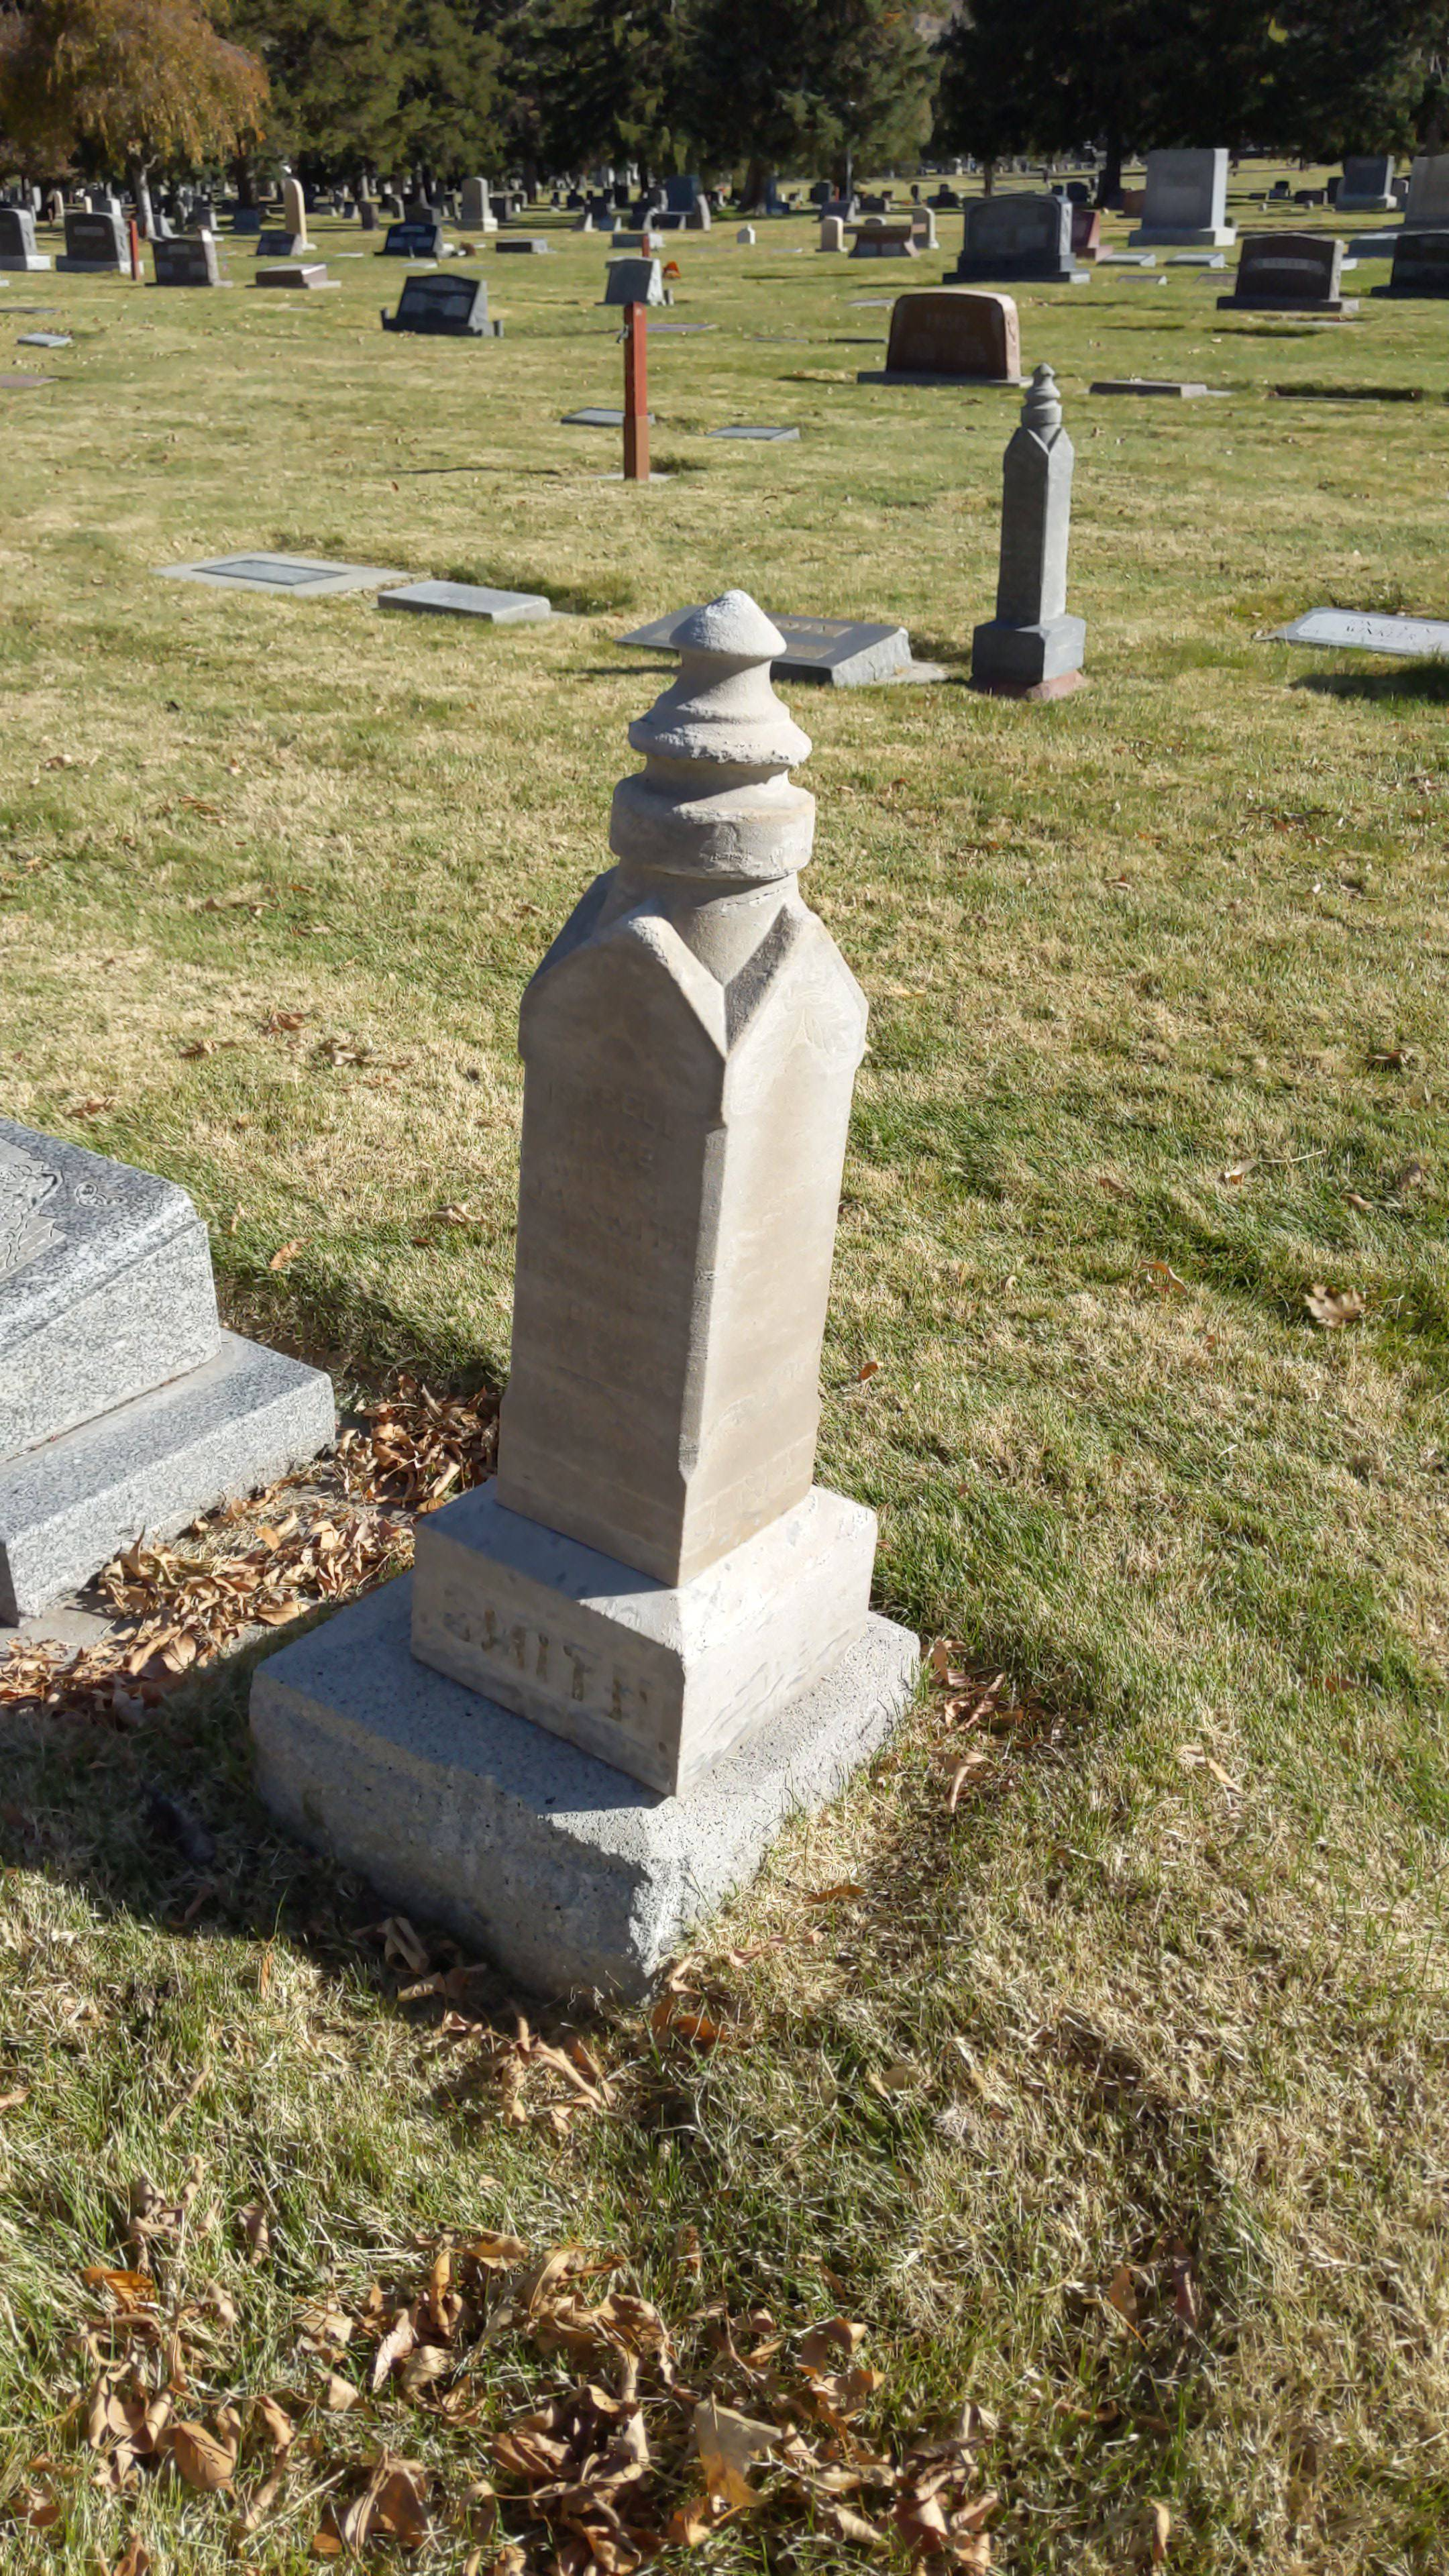obelisk: (410, 591, 874, 1801)
